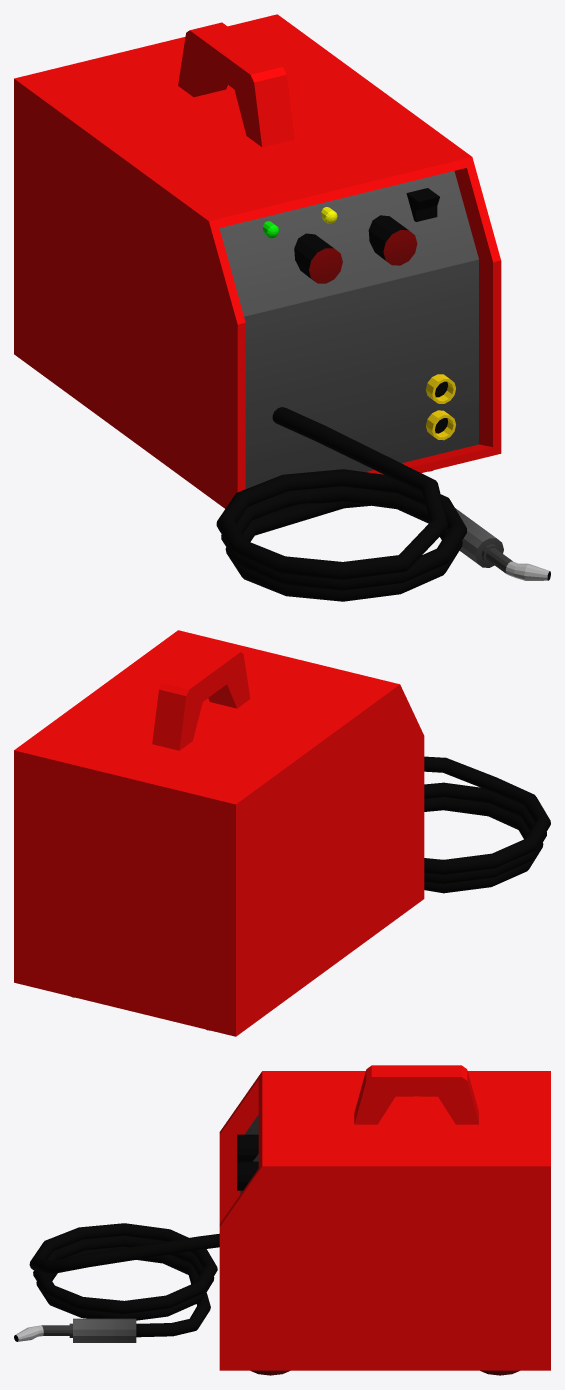
File: SM_Prop_MigWelder.fbx
The picture shows the model from 3 angles, top to bottom: view 1: azimuth 30°, elevation 25°; view 2: azimuth 150°, elevation 25°; view 3: azimuth 270°, elevation 25°; orthographic projection. The views are drawn at different scales.
Visible parts, largest first — view 1: SM_Prop_MigWelder; view 2: SM_Prop_MigWelder; view 3: SM_Prop_MigWelder.
Boxes of the visible parts, x1,y1,x2,y2 form: SM_Prop_MigWelder: (14,14,550,601); SM_Prop_MigWelder: (14,630,550,1036); SM_Prop_MigWelder: (14,1065,550,1375).
Size of the model in its own units: 0.2601 by 0.2679 by 0.4917.
